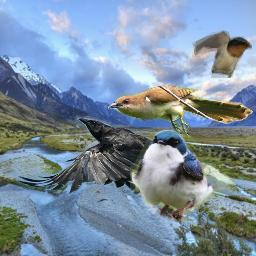Crow: (14, 116, 195, 204)
Cuckoo: (108, 86, 253, 137)
Swallow: (130, 129, 236, 222), (192, 30, 252, 78)
